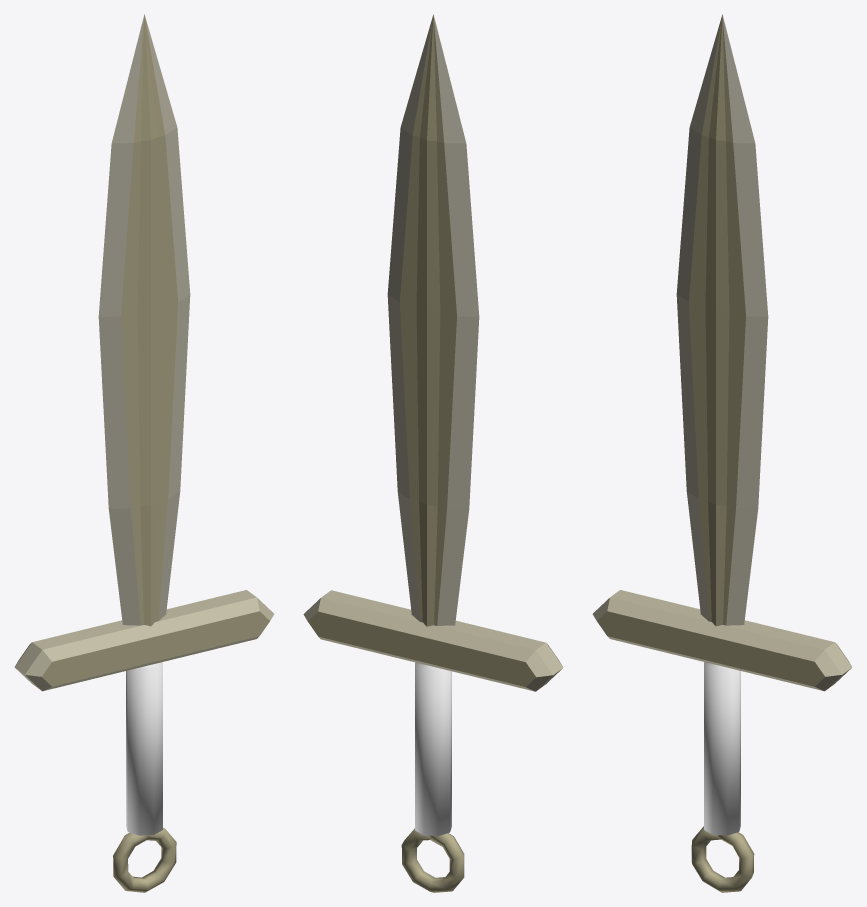
The model's file is tin_shortsword.glb.
3 renders of one model, left to right at view 1: azimuth 30°, elevation 25°; view 2: azimuth 150°, elevation 25°; view 3: azimuth 330°, elevation 25°, orthographic.
Parts seen in each view (by area): view 1: tin_shortsword_v0; view 2: tin_shortsword_v0; view 3: tin_shortsword_v0.
Part boxes in pixels (x1,y1,x2,y2): tin_shortsword_v0: [14, 14, 274, 892]; tin_shortsword_v0: [303, 14, 563, 892]; tin_shortsword_v0: [592, 14, 852, 892].
Size of the model in its own units: 0.314 by 1.06 by 0.05.
